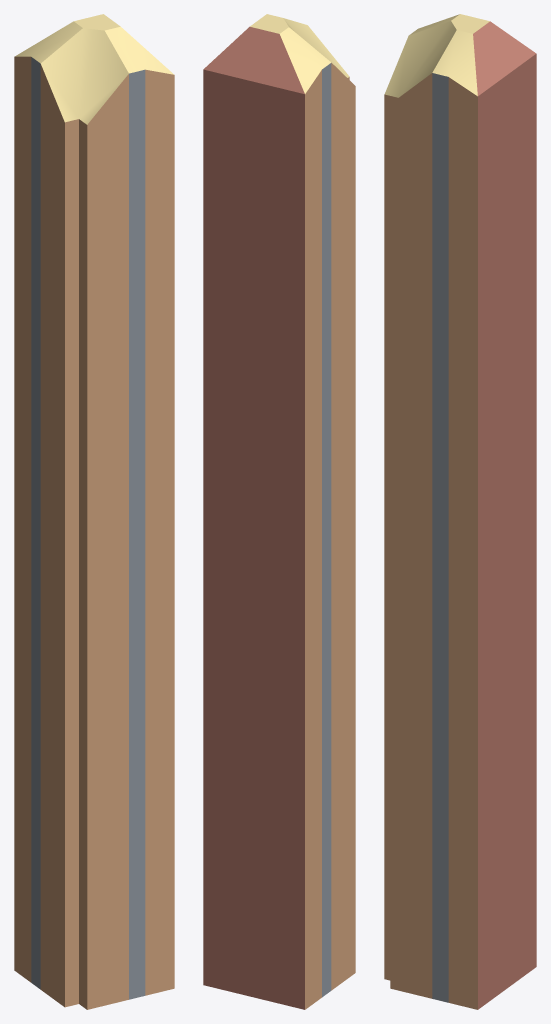
File: Wall corner.fbx
The picture shows the model from 3 angles, left to right: view 1: azimuth 30°, elevation 25°; view 2: azimuth 150°, elevation 25°; view 3: azimuth 330°, elevation 25°; orthographic projection.
Parts seen in each view (by area): view 1: Wall corner; view 2: Wall corner; view 3: Wall corner.
Boxes of the visible parts, x1,y1,x2,y2 form: Wall corner: [14, 14, 174, 1009]; Wall corner: [203, 14, 355, 1009]; Wall corner: [384, 14, 536, 1009].
Size of the model in its own units: 1 by 8.95 by 1.
